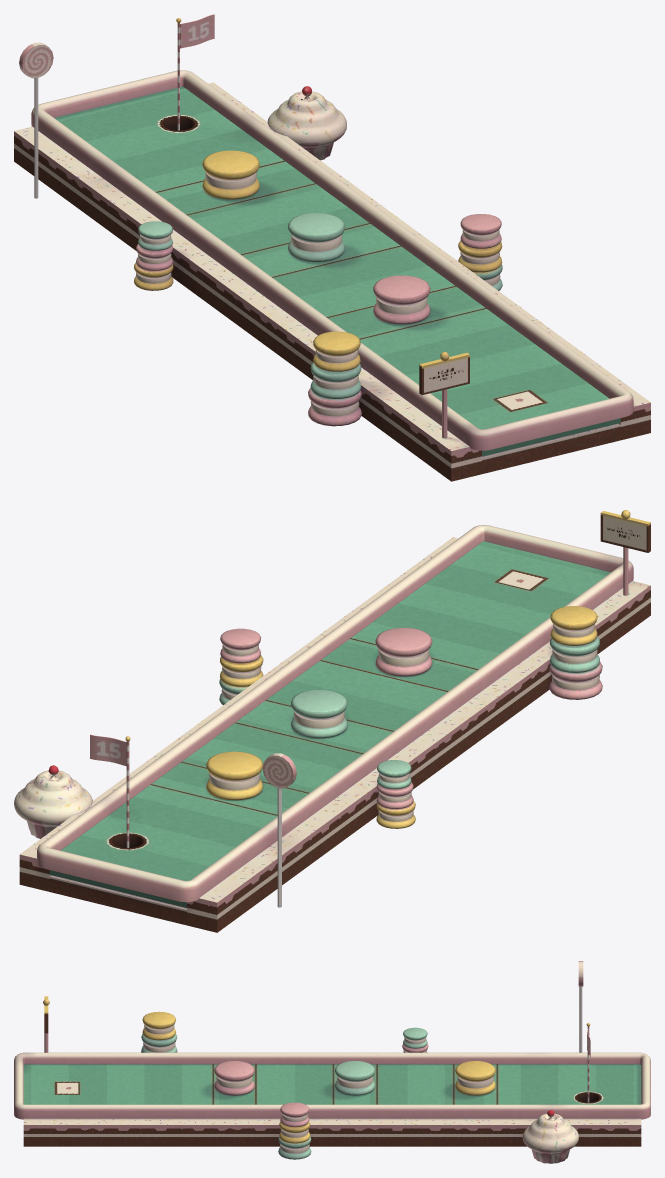
The model's file is hole15.glb.
The picture shows the model from 3 angles, top to bottom: view 1: azimuth 30°, elevation 25°; view 2: azimuth 150°, elevation 25°; view 3: azimuth 270°, elevation 25°; orthographic projection. The views are drawn at different scales.
Visible parts, largest first — view 1: Green, Rails, Base, Decor1, Decor4, Decor2, MacaronGate1, MacaronGate3, MacaronGate2, Decor3, HoleSign, Decor5 (+1 smaller); view 2: Green, Rails, Base, Decor1, Decor4, Decor2, MacaronGate1, MacaronGate3, MacaronGate2, Decor3, HoleSign, Decor5 (+1 smaller); view 3: Green, Rails, Base, Decor4, Decor2, Decor1, MacaronGate2, MacaronGate1, MacaronGate3, Decor3, Decor5.
Part boxes in pixels (box(x1,y1,x2,y2)): Green: box(54, 86, 620, 456); Rails: box(31, 70, 633, 450); Base: box(14, 82, 650, 481); Decor1: box(308, 331, 361, 426); Decor4: box(267, 86, 346, 160); Decor2: box(458, 214, 502, 290); MacaronGate1: box(373, 275, 430, 324); MacaronGate3: box(202, 150, 259, 199); MacaronGate2: box(287, 213, 345, 261); Decor3: box(134, 221, 173, 290); HoleSign: box(419, 352, 469, 438); Decor5: box(19, 42, 53, 198); Green: box(49, 541, 610, 907); Rails: box(37, 525, 633, 902); Base: box(19, 537, 650, 932); Decor1: box(549, 606, 602, 699); Decor4: box(14, 765, 92, 838); Decor2: box(219, 628, 263, 704); MacaronGate1: box(375, 628, 432, 676); MacaronGate3: box(206, 751, 263, 800); MacaronGate2: box(291, 689, 347, 738); Decor3: box(376, 760, 415, 828); HoleSign: box(600, 510, 650, 595); Decor5: box(262, 753, 296, 907); Green: box(23, 1064, 641, 1104); Rails: box(14, 1052, 650, 1119); Base: box(23, 1118, 641, 1146); Decor4: box(522, 1110, 578, 1163); Decor2: box(278, 1102, 311, 1159); Decor1: box(141, 1011, 177, 1052); MacaronGate2: box(334, 1061, 375, 1095); MacaronGate1: box(214, 1061, 254, 1095); MacaronGate3: box(455, 1061, 495, 1095); Decor3: box(402, 1027, 428, 1052); Decor5: box(578, 961, 583, 1052).
Size of what is drawn, in the model's own units: 3.33 by 1.59 by 8.46.
Materials: 1 (1 with a texture image).
